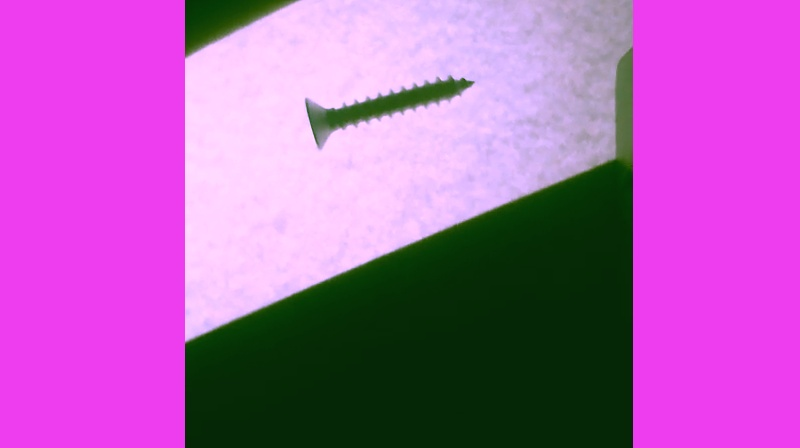S001: (299, 69, 480, 154)
